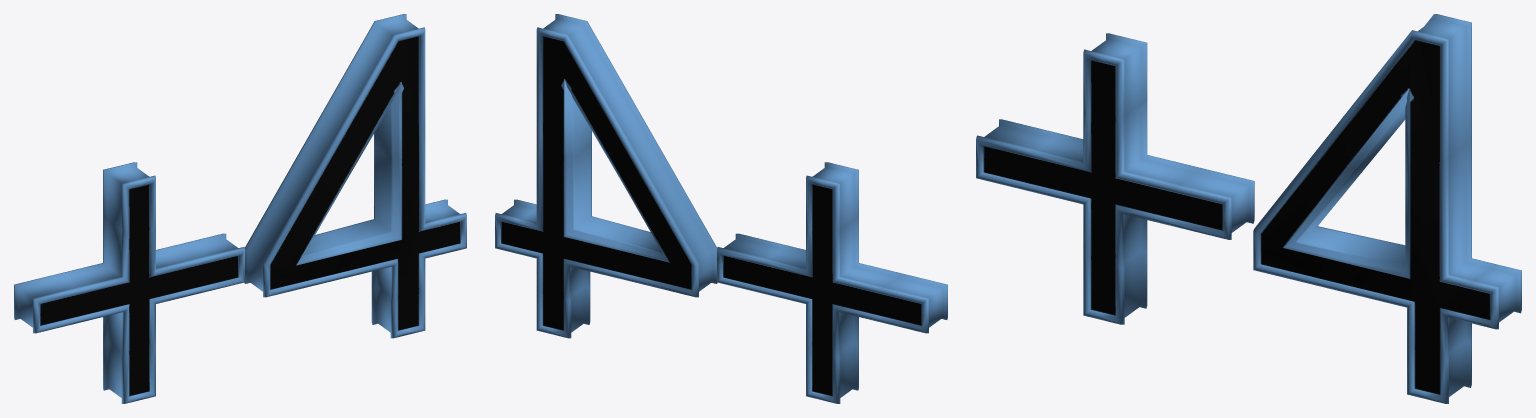
File: plus4.fbx
The picture shows the model from 3 angles, left to right: view 1: azimuth 30°, elevation 25°; view 2: azimuth 150°, elevation 25°; view 3: azimuth 330°, elevation 25°; orthographic projection. The views are drawn at different scales.
Visible parts, largest first — view 1: plus4; view 2: plus4; view 3: plus4.
Part boxes in pixels (bbox=[...]): plus4: bbox=[14, 14, 466, 403]; plus4: bbox=[495, 14, 947, 403]; plus4: bbox=[976, 14, 1521, 403].
Bounding box in the file's own units: 7.89 × 5.27 × 0.8008.
1 material, 1 textured.
